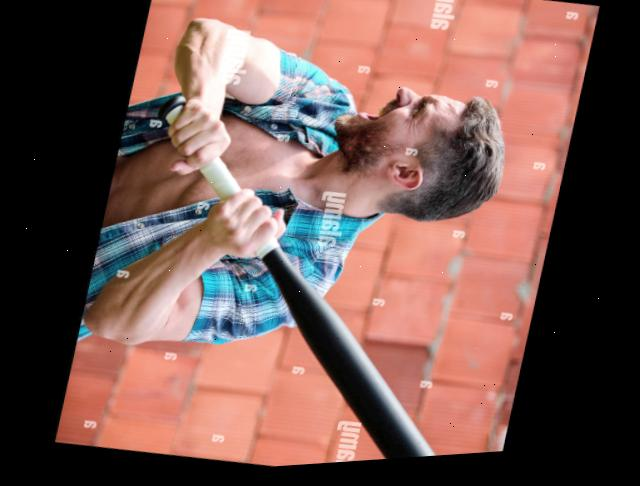baseball bat: (90, 74, 527, 480)
